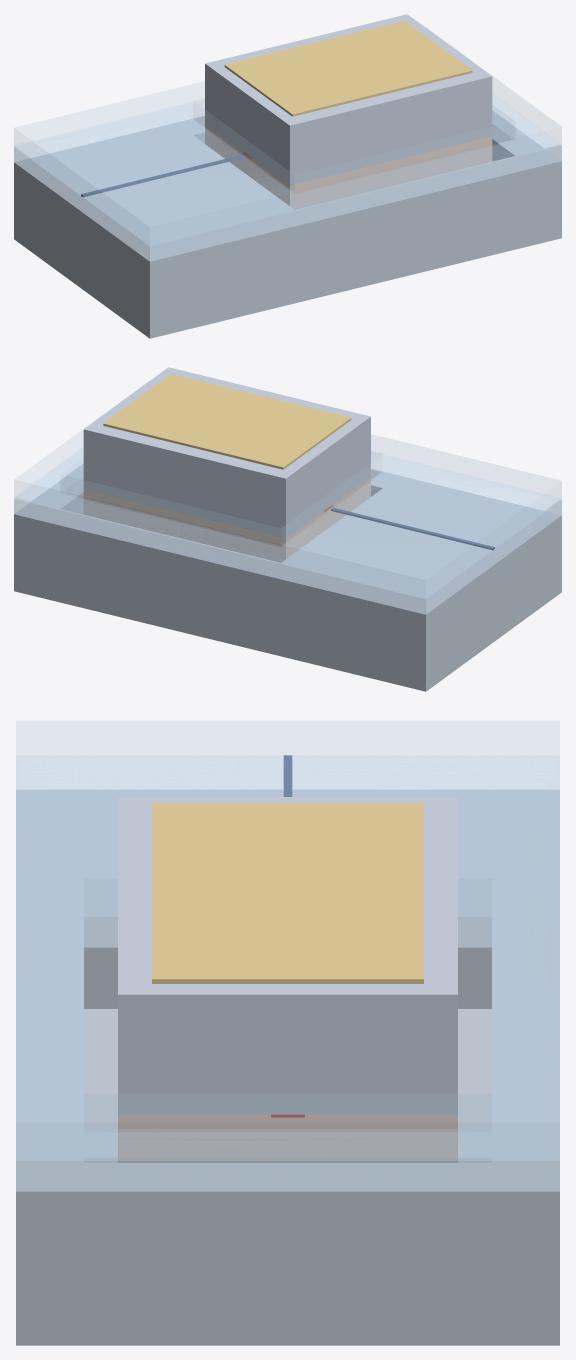
Rendered from stack-flipchip.glb.
3 views of the same model, one above another, from view 1: azimuth 30°, elevation 25°; view 2: azimuth 150°, elevation 25°; view 3: azimuth 270°, elevation 25° (orthographic). The views are drawn at different scales.
Parts seen in each view (by area): view 1: sisub, cladd, box, inp, nmetal, pinp, siwg; view 2: sisub, cladd, inp, box, nmetal, pinp, siwg; view 3: sisub, cladd, box, inp, nmetal, pinp.
Boxes of the visible parts, x1,y1,x2,y2 form: sisub: [14, 110, 561, 338]; cladd: [14, 28, 561, 245]; box: [14, 96, 561, 261]; inp: [205, 14, 492, 185]; nmetal: [224, 21, 472, 116]; pinp: [205, 124, 492, 209]; siwg: [81, 154, 244, 197]; sisub: [14, 463, 561, 691]; cladd: [14, 381, 561, 598]; inp: [83, 367, 370, 538]; box: [14, 449, 561, 614]; nmetal: [103, 374, 351, 469]; pinp: [83, 477, 370, 562]; siwg: [331, 507, 494, 550]; sisub: [16, 789, 559, 1345]; cladd: [16, 721, 559, 1160]; box: [16, 759, 559, 1191]; inp: [118, 797, 457, 1114]; nmetal: [152, 803, 423, 983]; pinp: [118, 1114, 457, 1162].
Size of the model in its own units: 56 by 20.3 by 32.
